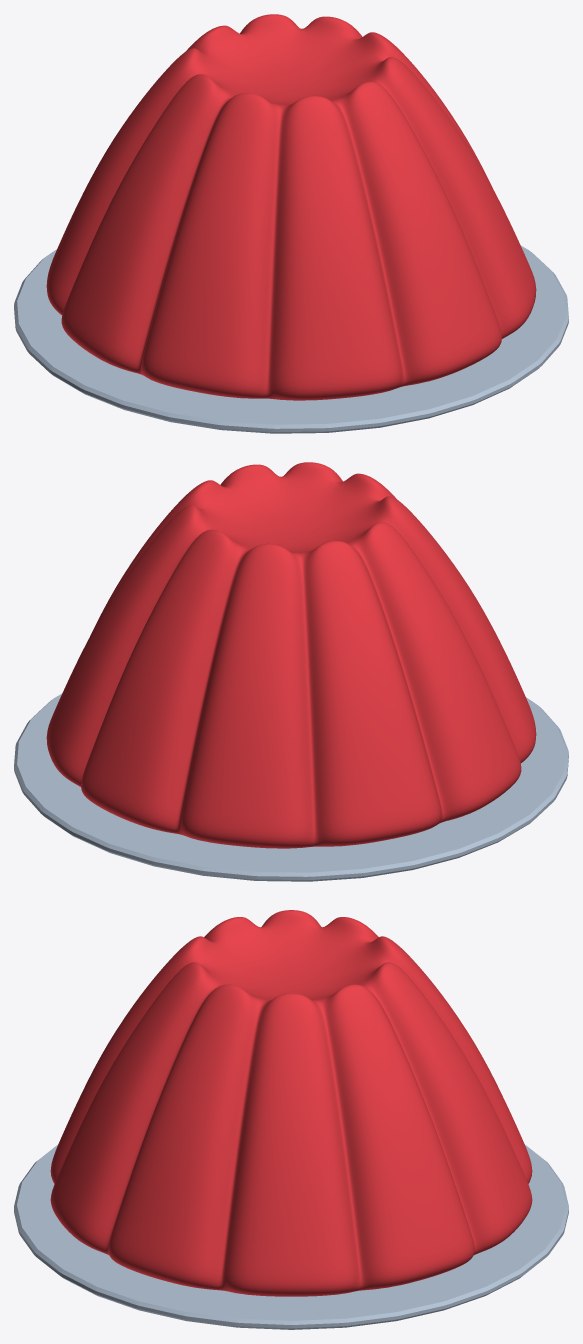
Rendered from Jelly.fbx.
3 renders of one model, top to bottom at view 1: azimuth 30°, elevation 25°; view 2: azimuth 150°, elevation 25°; view 3: azimuth 270°, elevation 25°, orthographic.
Parts seen in each view (by area): view 1: Cylinder.005; view 2: Cylinder.005; view 3: Cylinder.005.
Boxes of the visible parts, x1=… form: Cylinder.005: x1=14, y1=14, x2=568, y2=433; Cylinder.005: x1=14, y1=462, x2=568, y2=881; Cylinder.005: x1=14, y1=910, x2=568, y2=1329.
Size of the model in its own units: 409 by 223 by 409.
